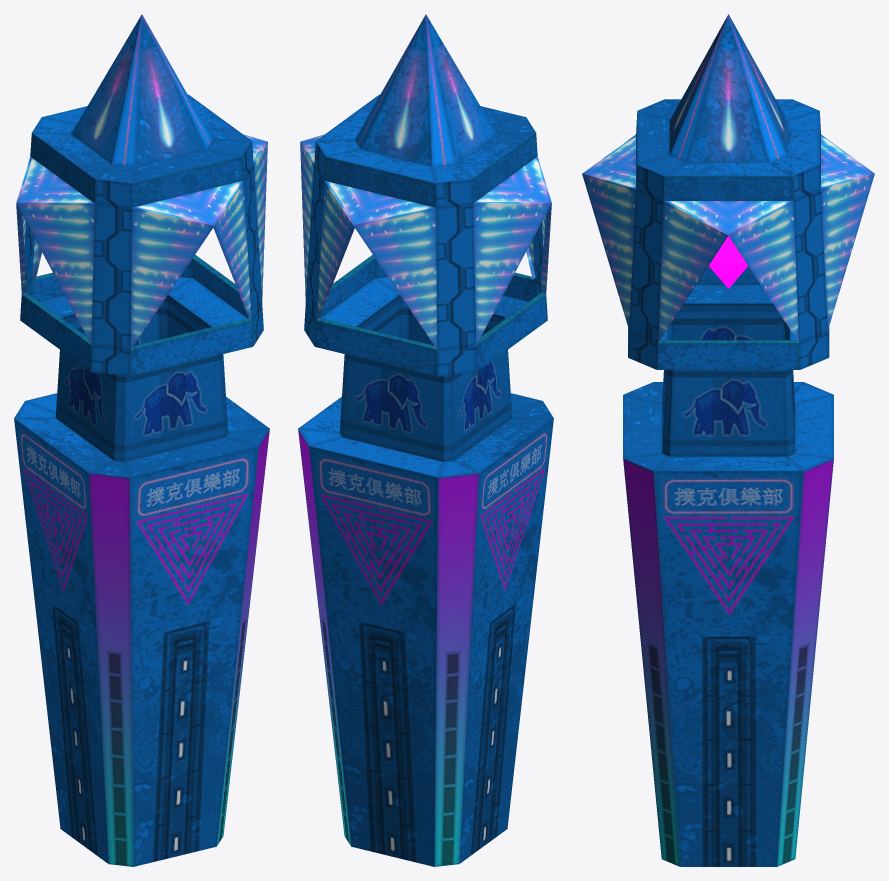
Rendered from Etherium_Slon.glb.
The picture shows the model from 3 angles, left to right: view 1: azimuth 30°, elevation 25°; view 2: azimuth 150°, elevation 25°; view 3: azimuth 270°, elevation 25°; orthographic projection.
Visible parts, largest first — view 1: Slon; view 2: Slon; view 3: Slon.
Part boxes in pixels (x1,y1,x2,y2): Slon: [14, 14, 269, 866]; Slon: [298, 14, 553, 866]; Slon: [582, 14, 874, 866].
Size of the model in its own units: 0.5591 by 1.74 by 0.5591.
2 materials, 1 textured.
